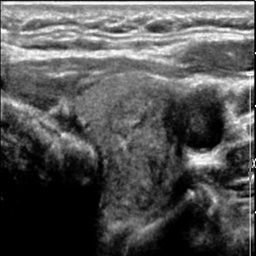mass: (110, 91, 180, 216)
